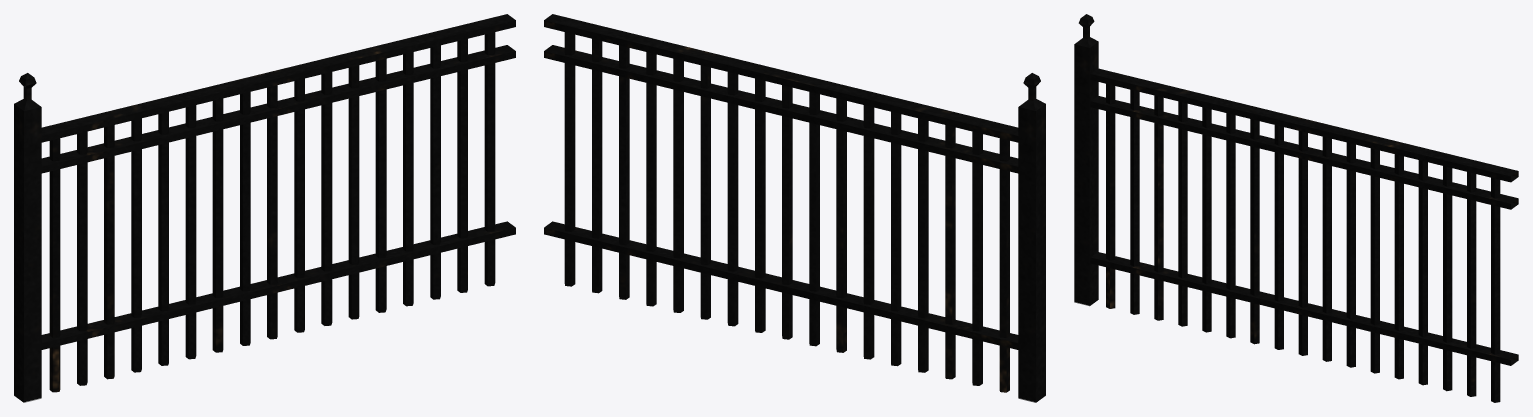
File: Pole Fence 2.fbx
The picture shows the model from 3 angles, left to right: view 1: azimuth 30°, elevation 25°; view 2: azimuth 150°, elevation 25°; view 3: azimuth 330°, elevation 25°; orthographic projection. The views are drawn at different scales.
Visible parts, largest first — view 1: Pole Fence 2; view 2: Pole Fence 2; view 3: Pole Fence 2.
Part boxes in pixels (x1=…): Pole Fence 2: x1=14, y1=14, x2=515, y2=402; Pole Fence 2: x1=544, y1=14, x2=1045, y2=402; Pole Fence 2: x1=1074, y1=14, x2=1518, y2=402.
Size of the model in its own units: 298 by 188 by 10.56.
